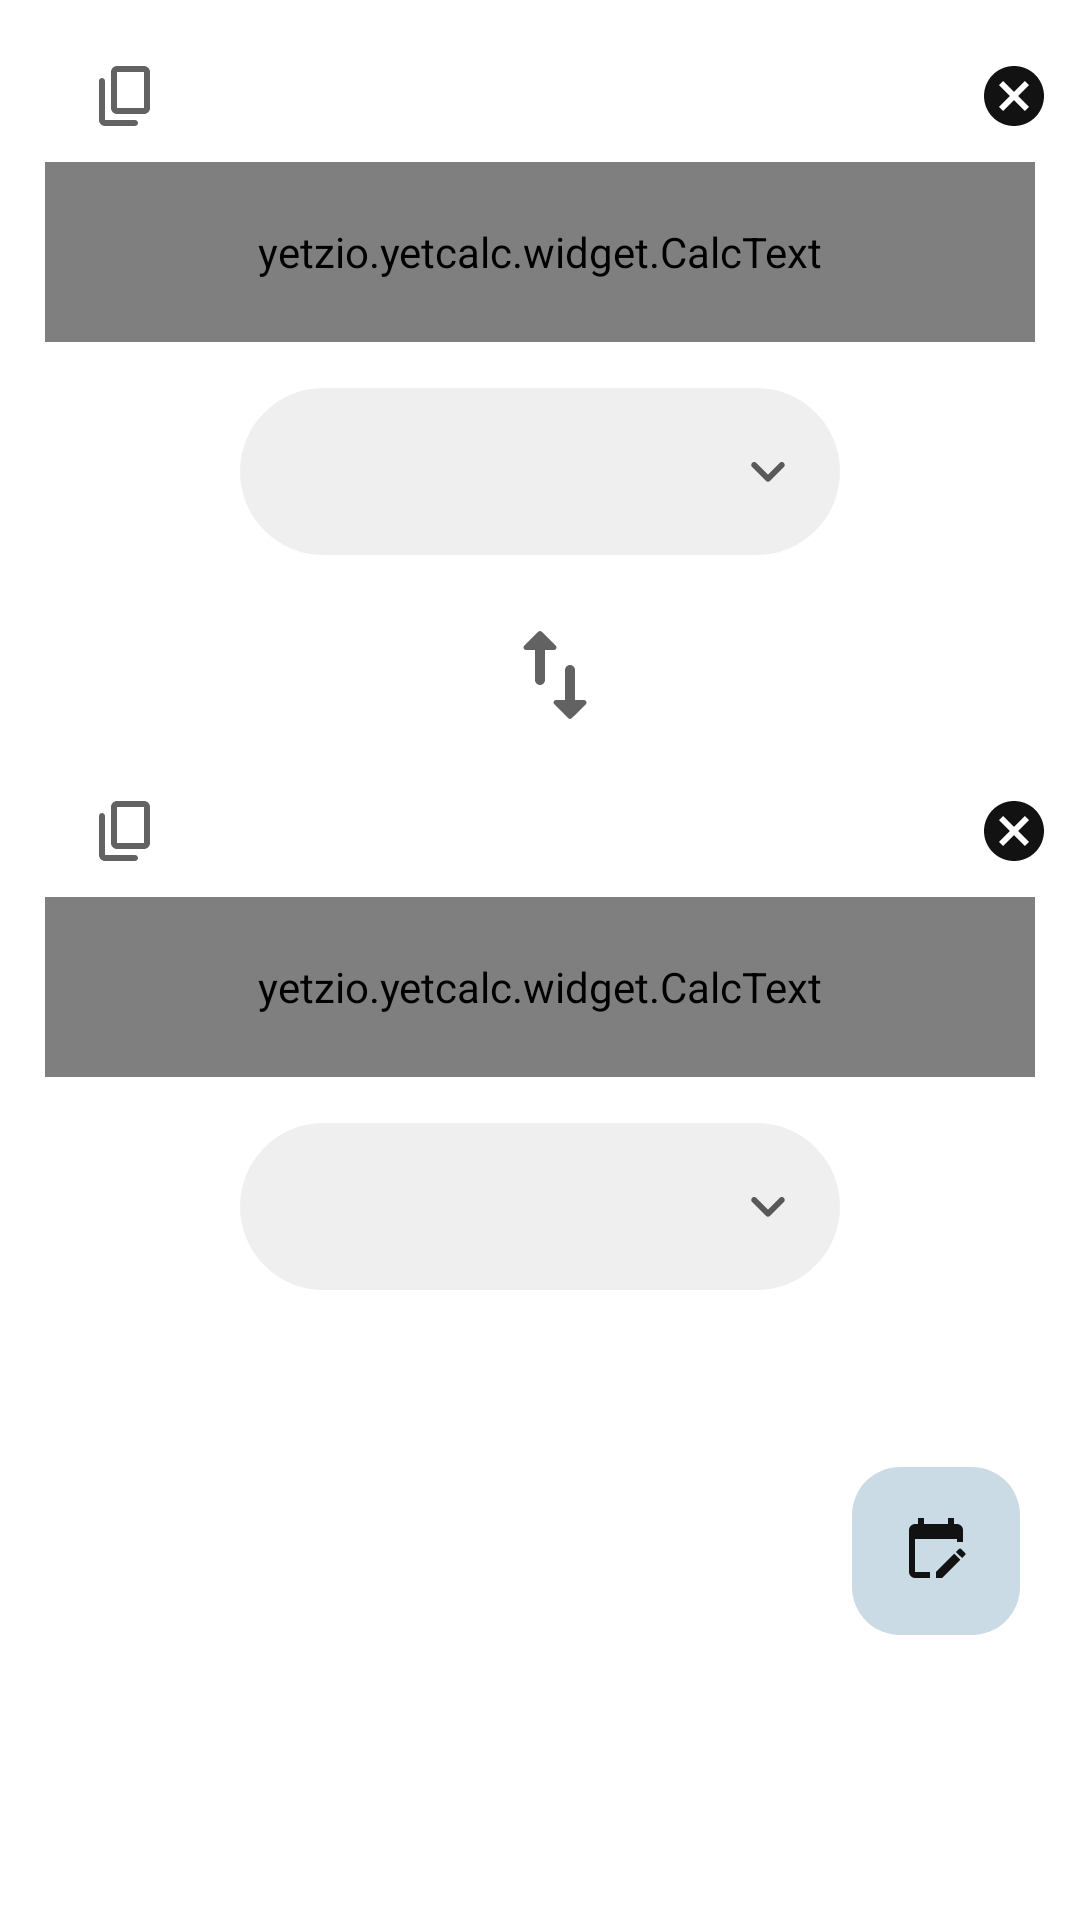

Where icons sit on this 1080×1920 app screen, as rect(x1, y1, x2, y2):
calendar edit: rect(852, 1467, 1020, 1635)
swap vert: rect(523, 631, 587, 719)
